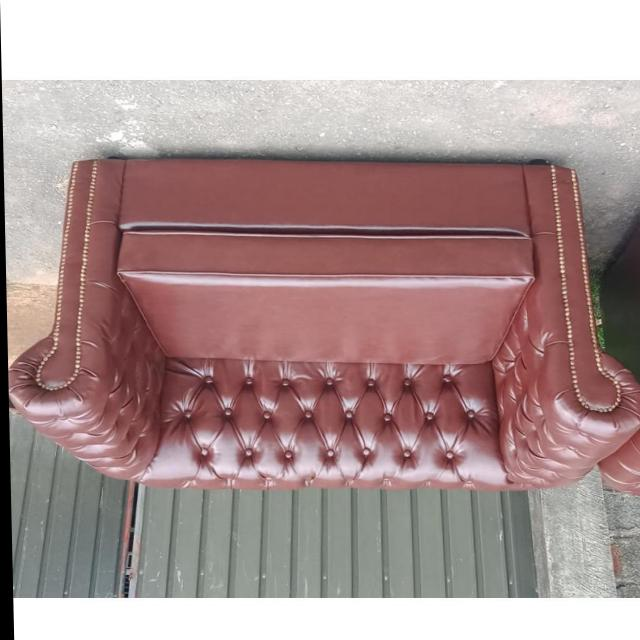Sofa: (3, 156, 640, 491)
